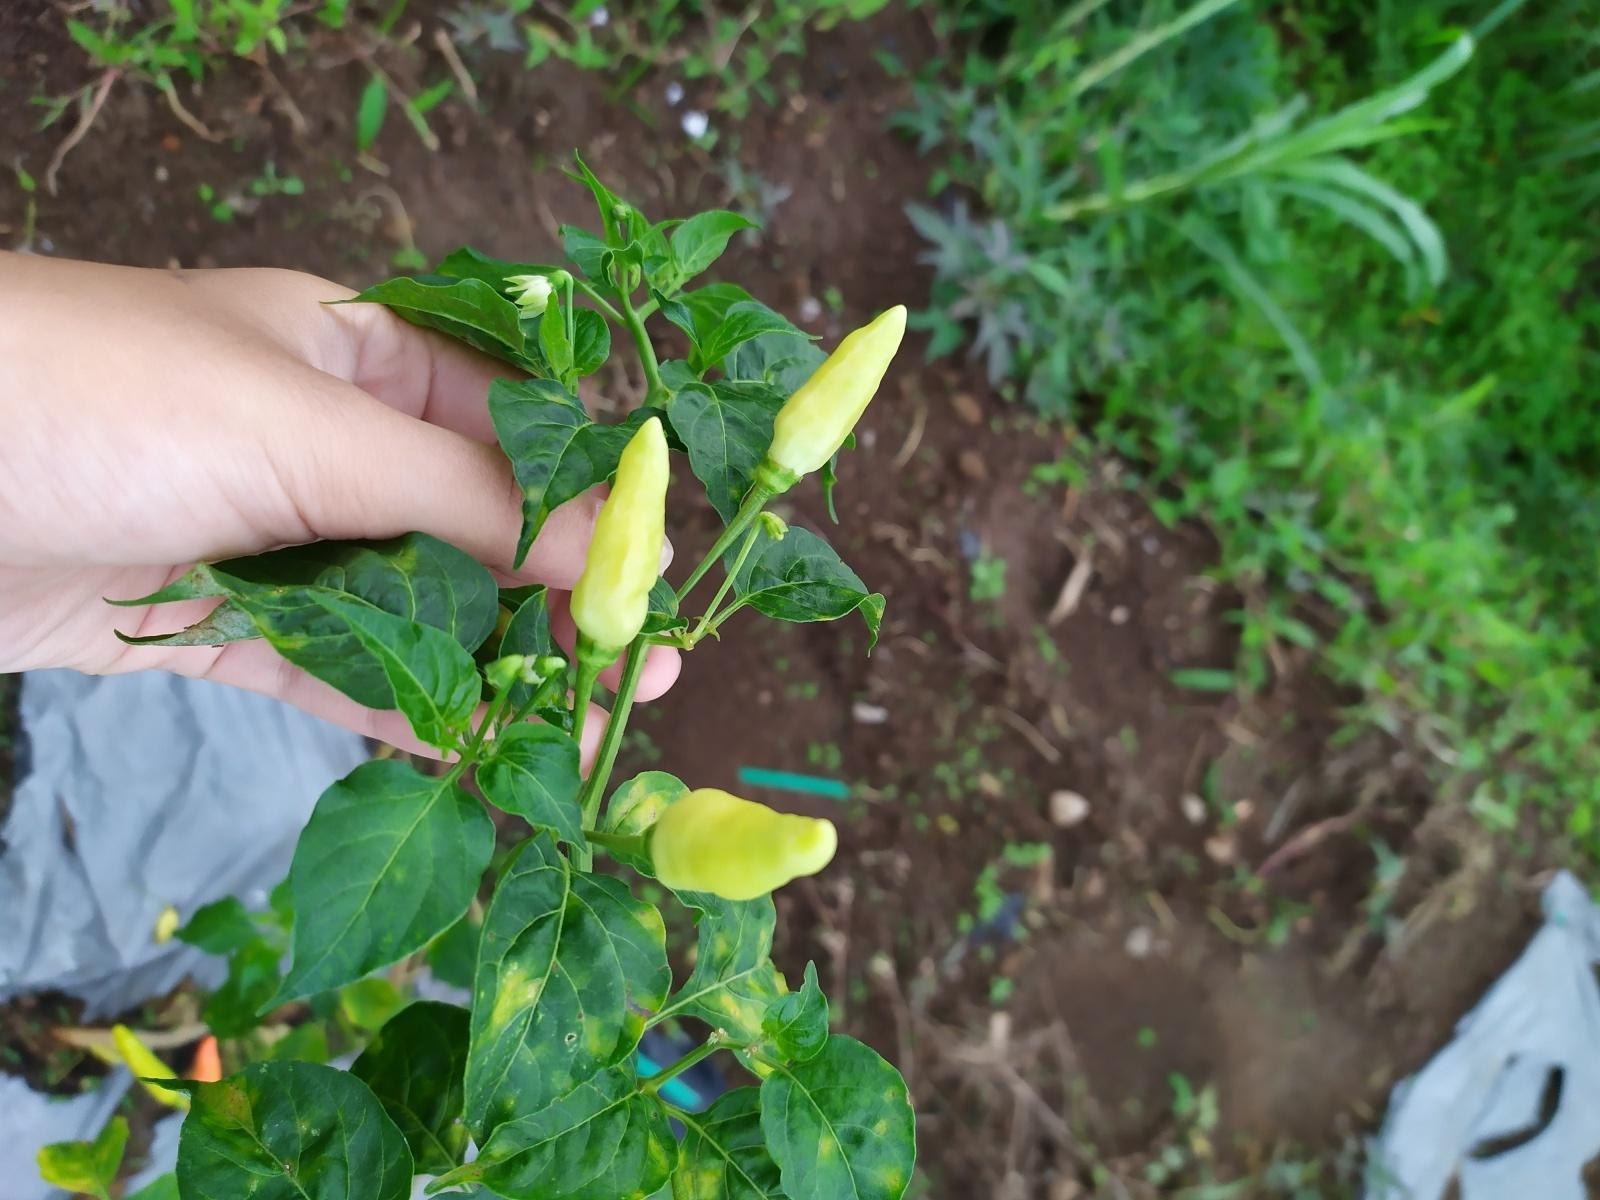cabai_normal: (766, 302, 909, 484), (567, 417, 671, 649), (650, 786, 838, 900)
